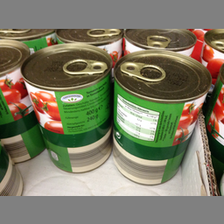tomato_sauce: (110, 49, 211, 184), (21, 43, 113, 176)
